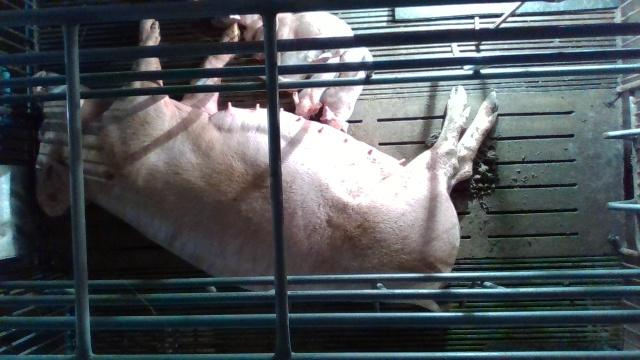piglet: (320, 47, 375, 134), (291, 55, 339, 118), (244, 13, 355, 39)
sow-sleep-lactate: (35, 18, 500, 308)
